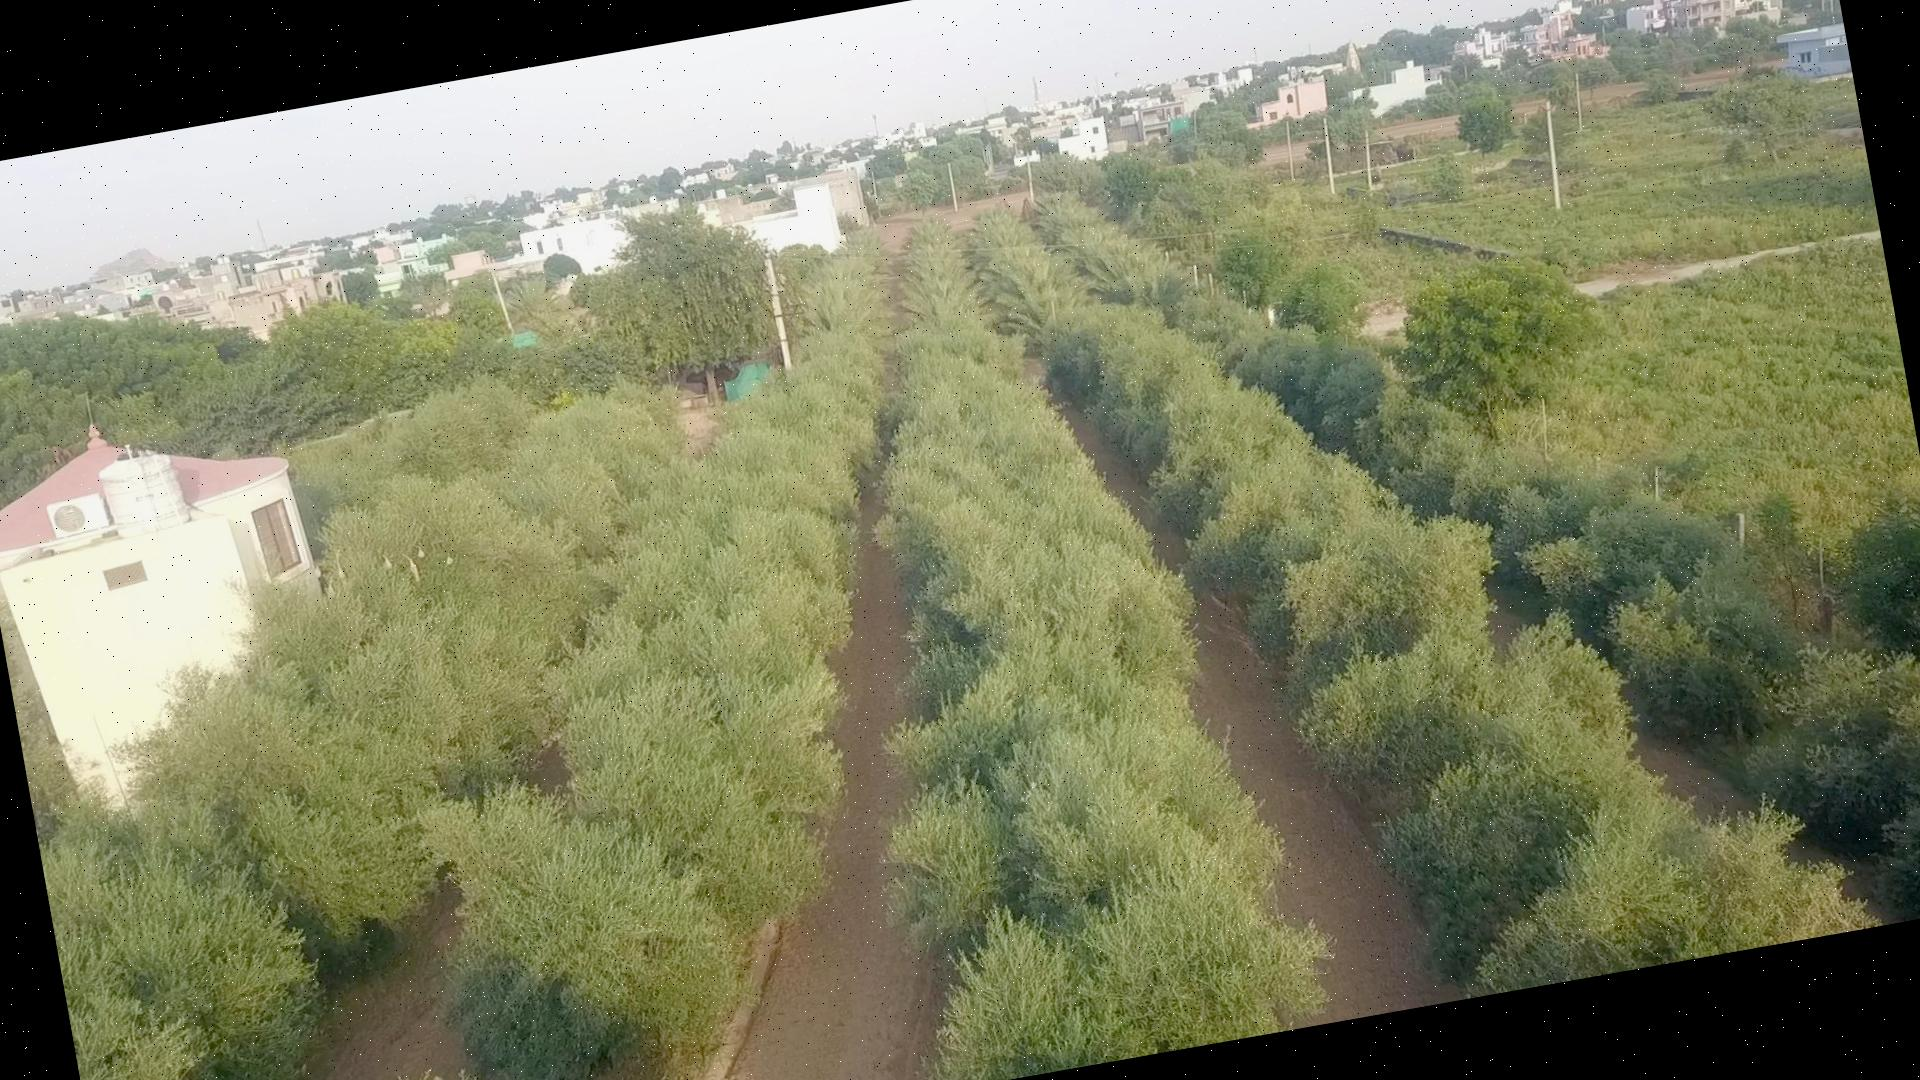canopy: (1034, 306, 1878, 994), (1187, 301, 1920, 915), (40, 397, 680, 1080), (878, 243, 1325, 1080), (429, 422, 855, 1080)
road: (1062, 406, 1460, 1027), (724, 472, 949, 1080)
